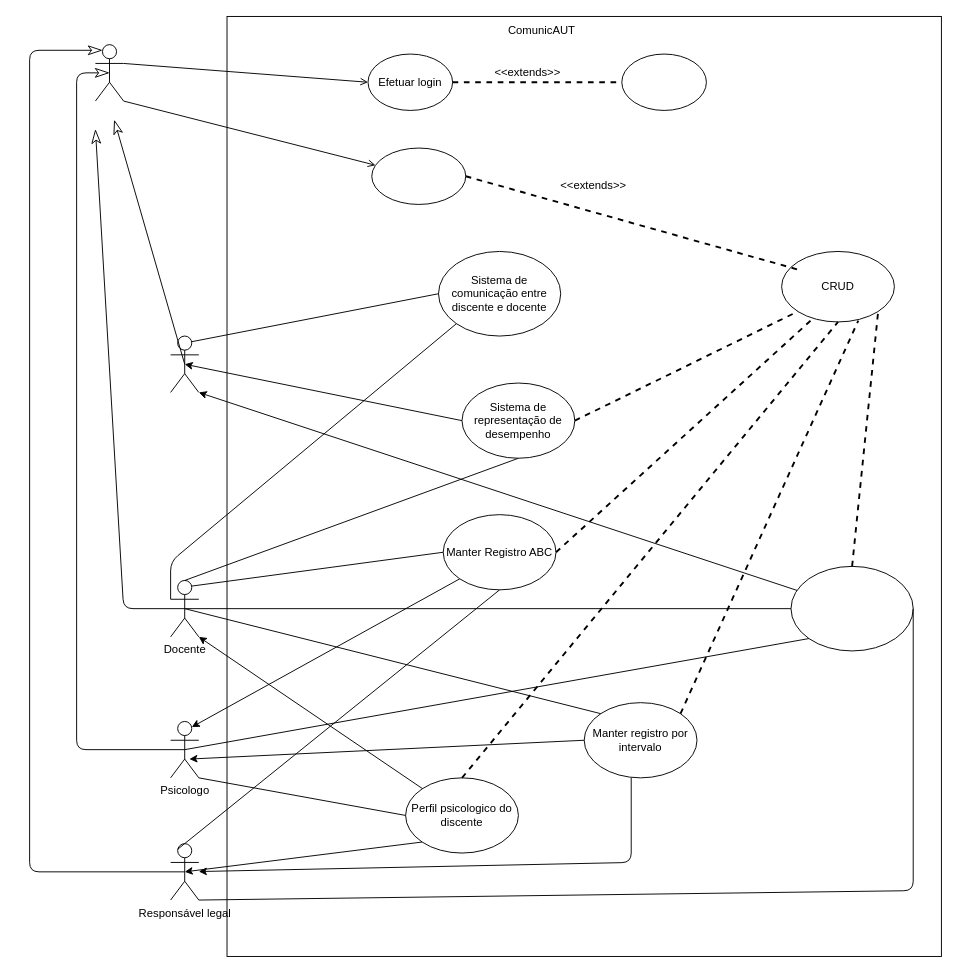
The diagram is 958 pixels wide and 973 high, and some of its shapes have lost their labels. The shapes that lost their labels are listed below. From the top down, each one's box as (x1, y1, x2, y2) in pixels, then its label:
(94, 44, 124, 101): Usuario
(621, 53, 706, 110): Recuperar senha
(371, 147, 466, 204): Cadastrar-se
(170, 335, 199, 392): Discente
(790, 565, 913, 651): Vincuação da conta
